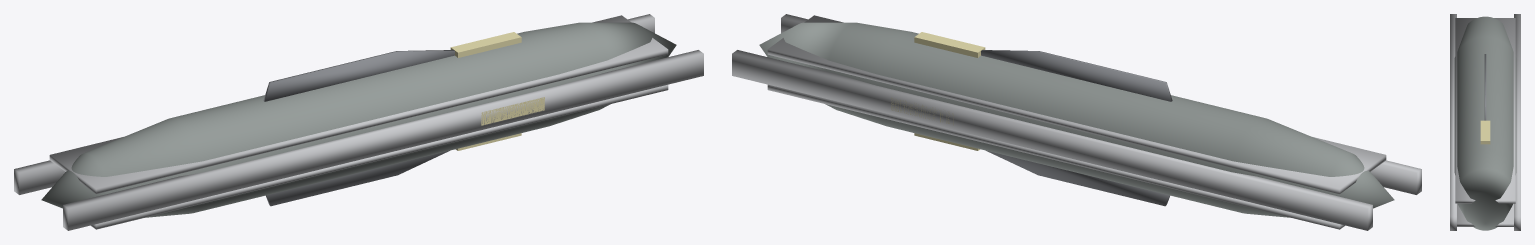
File: US_MINE_Mk60_CAPTOR_LOD0.fbx
3 views of the same model, side by side, from view 1: azimuth 30°, elevation 25°; view 2: azimuth 150°, elevation 25°; view 3: azimuth 270°, elevation 25° (orthographic). The views are drawn at different scales.
Parts seen in each view (by area): view 1: WPN_US_MINE_Mk60_CAPTOR_LOD0_Detail, WPN_US_MINE_Mk60_CAPTOR_LOD0_Body, WPN_US_MINE_Mk60_CAPTOR_LOD0_Marking; view 2: WPN_US_MINE_Mk60_CAPTOR_LOD0_Detail, WPN_US_MINE_Mk60_CAPTOR_LOD0_Body, WPN_US_MINE_Mk60_CAPTOR_LOD0_Marking; view 3: WPN_US_MINE_Mk60_CAPTOR_LOD0_Body, WPN_US_MINE_Mk60_CAPTOR_LOD0_Detail, WPN_US_MINE_Mk60_CAPTOR_LOD0_Marking.
Part boxes in pixels (<box>): WPN_US_MINE_Mk60_CAPTOR_LOD0_Detail: <box>14,14,703,230</box>; WPN_US_MINE_Mk60_CAPTOR_LOD0_Body: <box>41,22,676,217</box>; WPN_US_MINE_Mk60_CAPTOR_LOD0_Marking: <box>450,32,544,150</box>; WPN_US_MINE_Mk60_CAPTOR_LOD0_Detail: <box>732,14,1421,230</box>; WPN_US_MINE_Mk60_CAPTOR_LOD0_Body: <box>759,22,1394,217</box>; WPN_US_MINE_Mk60_CAPTOR_LOD0_Marking: <box>891,32,985,150</box>; WPN_US_MINE_Mk60_CAPTOR_LOD0_Body: <box>1454,16,1516,230</box>; WPN_US_MINE_Mk60_CAPTOR_LOD0_Detail: <box>1450,14,1520,230</box>; WPN_US_MINE_Mk60_CAPTOR_LOD0_Marking: <box>1480,120,1490,144</box>.
Bounding box in the file's own units: 4 × 0.5916 × 0.7409.
